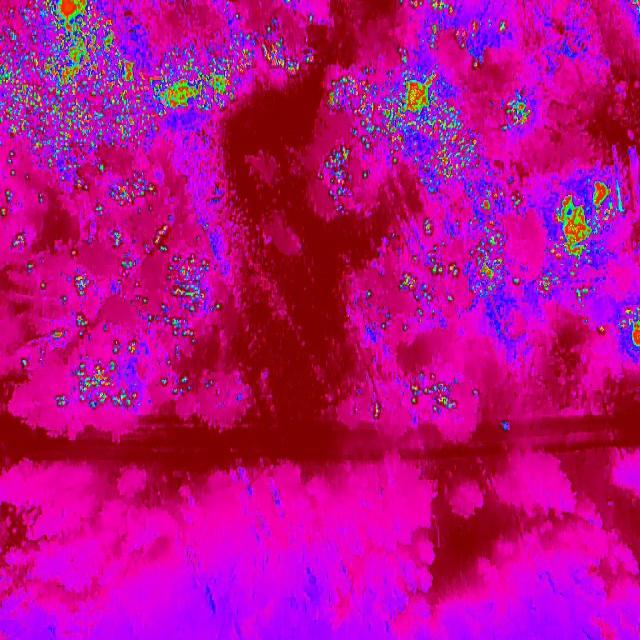fire: (0, 0, 217, 166), (324, 61, 484, 207), (538, 168, 622, 301), (466, 173, 520, 301), (218, 0, 316, 70), (163, 254, 223, 345), (74, 341, 147, 411), (424, 15, 514, 60), (398, 257, 461, 307), (105, 176, 157, 212), (411, 377, 462, 412), (502, 93, 537, 137), (613, 306, 640, 358), (218, 72, 245, 112)
